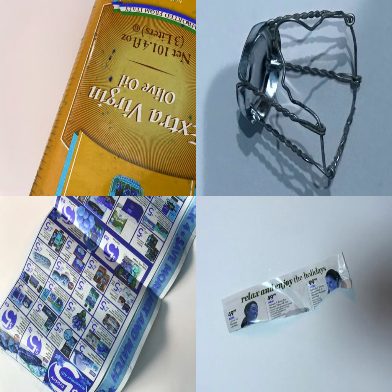metal: (29, 1, 195, 194), (237, 9, 362, 178)
paper: (1, 195, 195, 392), (220, 253, 353, 332)
